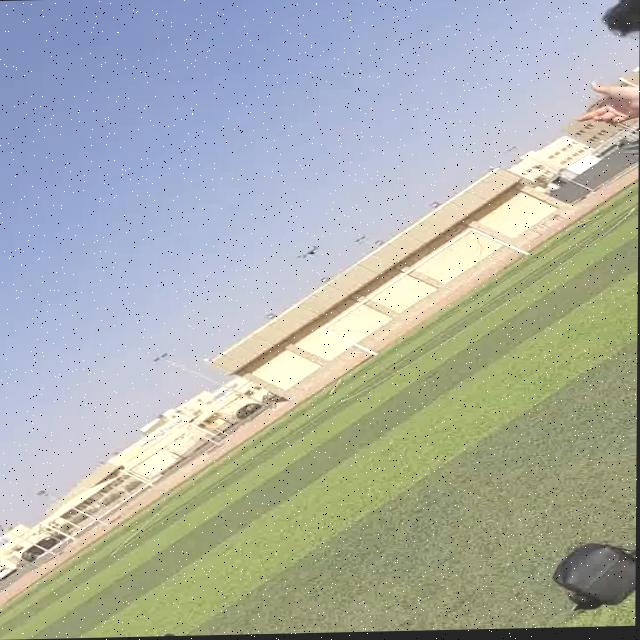drone: (290, 243, 323, 262)
